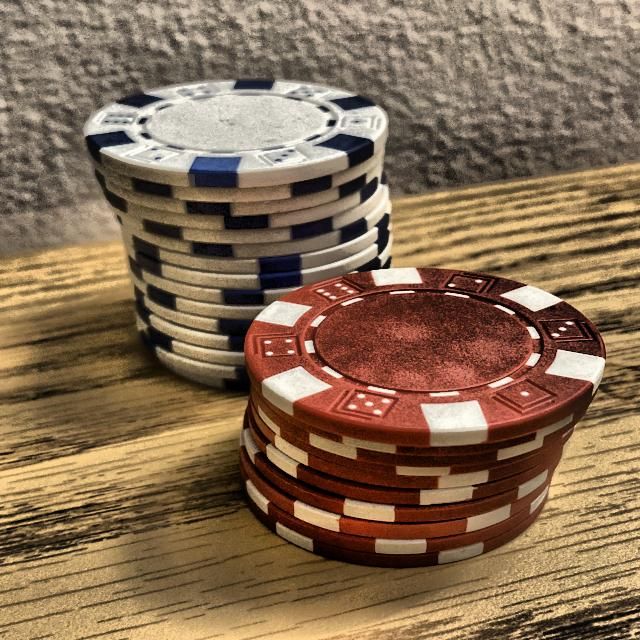Chip: (34, 55, 429, 404), (218, 259, 613, 582)
